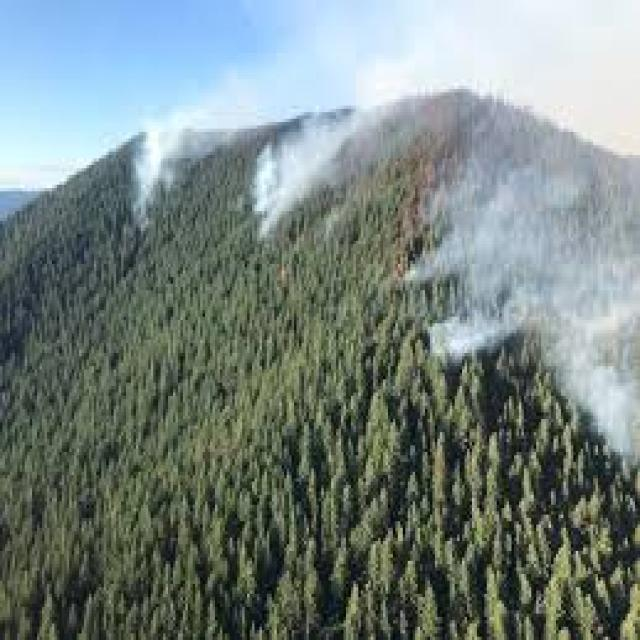Smoke: (507, 142, 630, 302), (558, 328, 640, 486), (401, 184, 499, 286), (244, 133, 332, 241), (421, 301, 526, 377), (122, 114, 180, 239)
